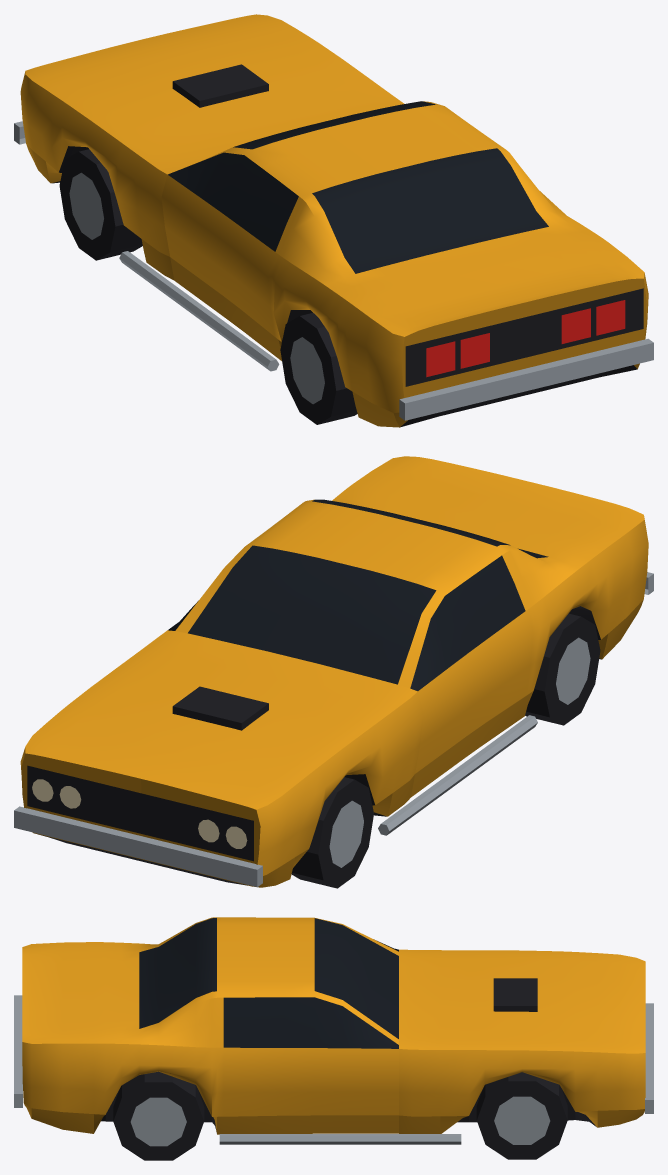
Rendered from brute_v8_lod1.glb.
3 views of the same model, one above another, from view 1: azimuth 30°, elevation 25°; view 2: azimuth 150°, elevation 25°; view 3: azimuth 270°, elevation 25° (orthographic). The views are drawn at different scales.
Parts seen in each view (by area): view 1: Body; view 2: Body; view 3: Body.
Part boxes in pixels (x1,y1,x2,y2): Body: (14, 14, 653, 427); Body: (14, 456, 653, 888); Body: (14, 917, 653, 1160).
Bounding box in the file's own units: 1.96 × 1.33 × 4.93.
